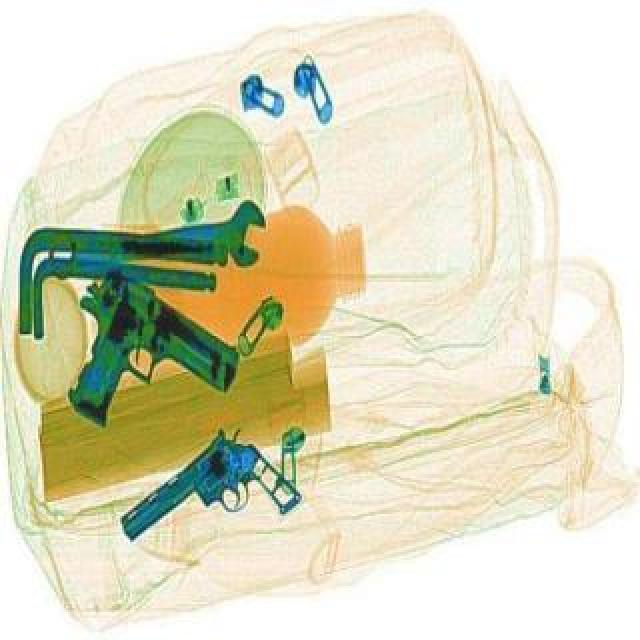gun: (16, 256, 254, 466), (108, 414, 308, 594)
scissors: (42, 194, 270, 286)
